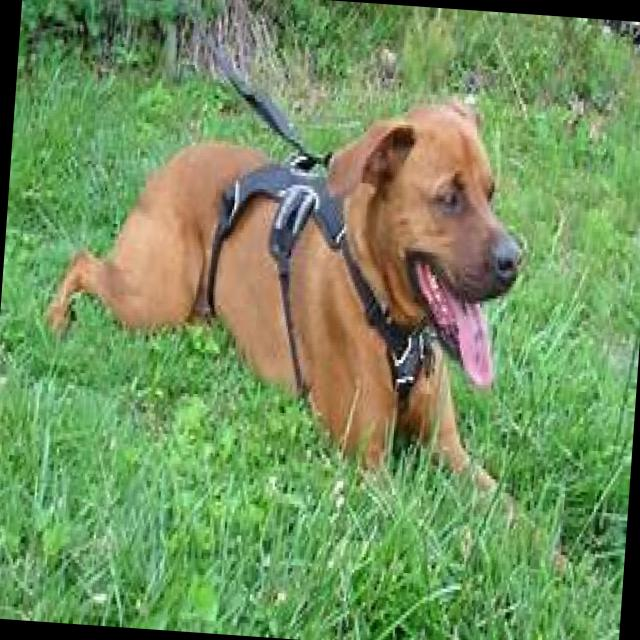animal: (27, 62, 598, 571)
